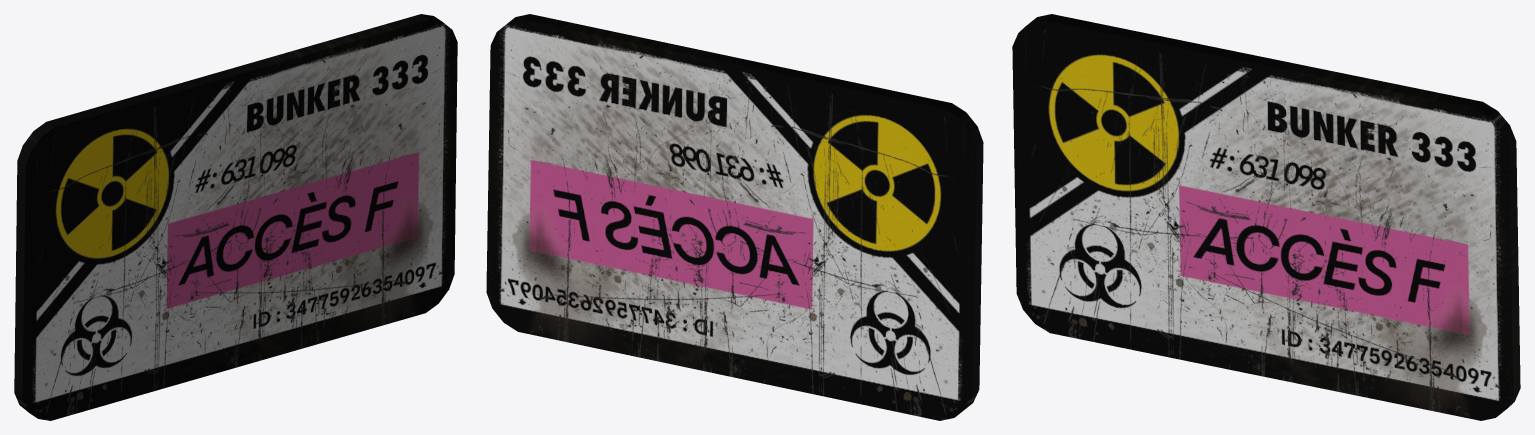
Rendered from CarteAccesF.fbx.
3 renders of one model, left to right at view 1: azimuth 30°, elevation 25°; view 2: azimuth 150°, elevation 25°; view 3: azimuth 330°, elevation 25°, orthographic. The views are drawn at different scales.
Parts seen in each view (by area): view 1: CarteAccesF; view 2: CarteAccesF; view 3: CarteAccesF.
Part boxes in pixels (left/top/right/bottom): CarteAccesF: left=14, top=14, right=457, bottom=420; CarteAccesF: left=486, top=14, right=983, bottom=420; CarteAccesF: left=1012, top=14, right=1520, bottom=420.
Bounding box in the file's own units: 10.01 × 6.34 × 1.09.
Materials: 1 (1 with a texture image).
